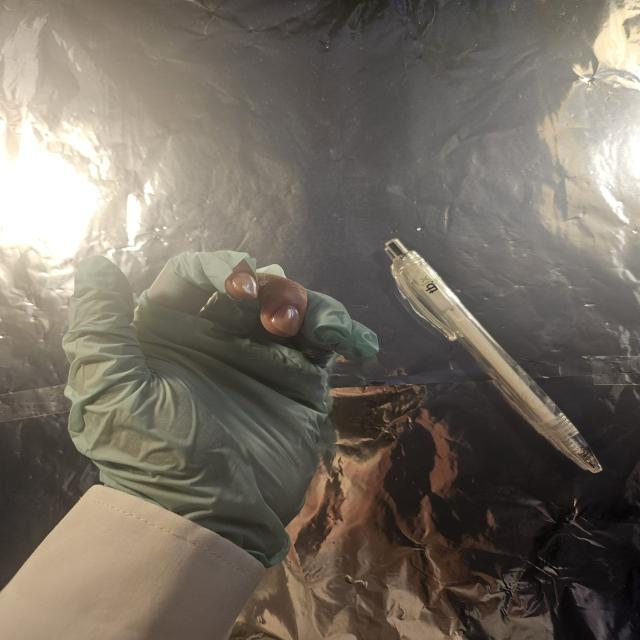gloves_damaged: (62, 248, 382, 570)
